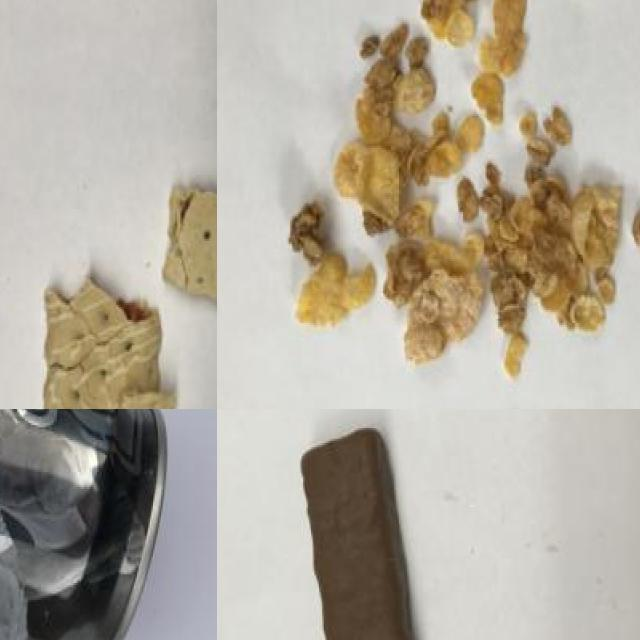compost: (268, 0, 640, 400), (30, 164, 217, 409), (274, 412, 469, 640)
plastic: (0, 409, 188, 640)
